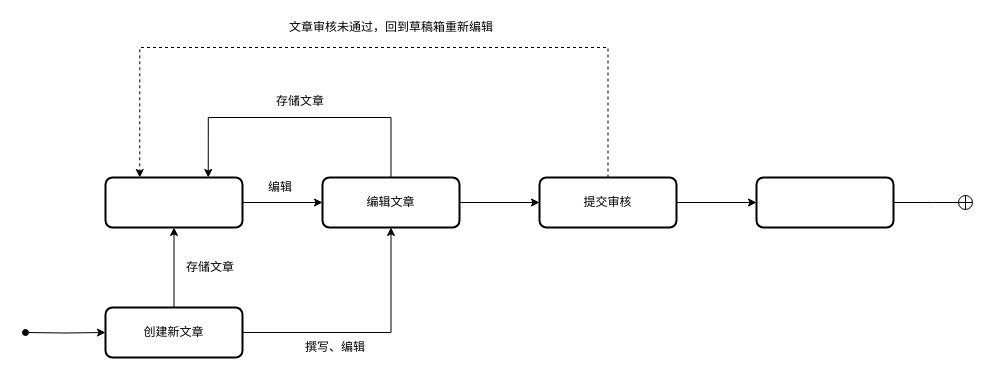
This 999x375 diagram has some shape labels left out. Each missing label, with the centre of its shape:
变更状态，审核 成功进入发布队列: the point at 824,202
进入草稿箱: the point at 173,202
